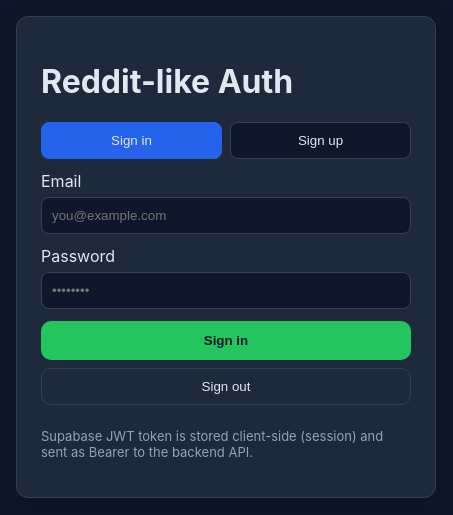
Test: App (Auth) › switches to signup mode
Click the button "Sign up" at (320, 141), box [230,122,411,159]
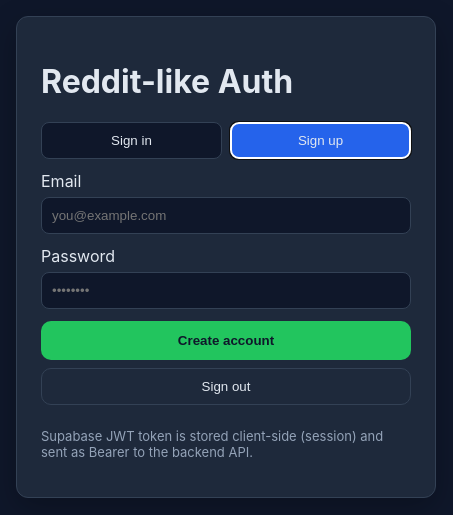
Check: the button "Create account" is shown, box [41,321,411,360]
